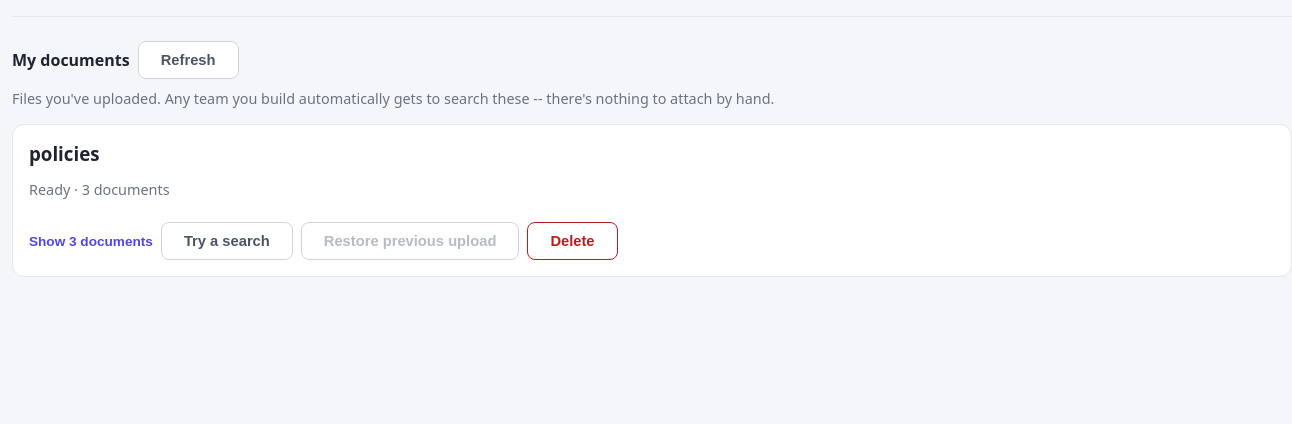
KnowledgeBasesPanel › lists the documents behind a toggle, with size and whether each could be read
Check: the text "handbook.pdf" is not shown
Click the button "Show 3 documents" at (91, 241), box [29,234,153,249]
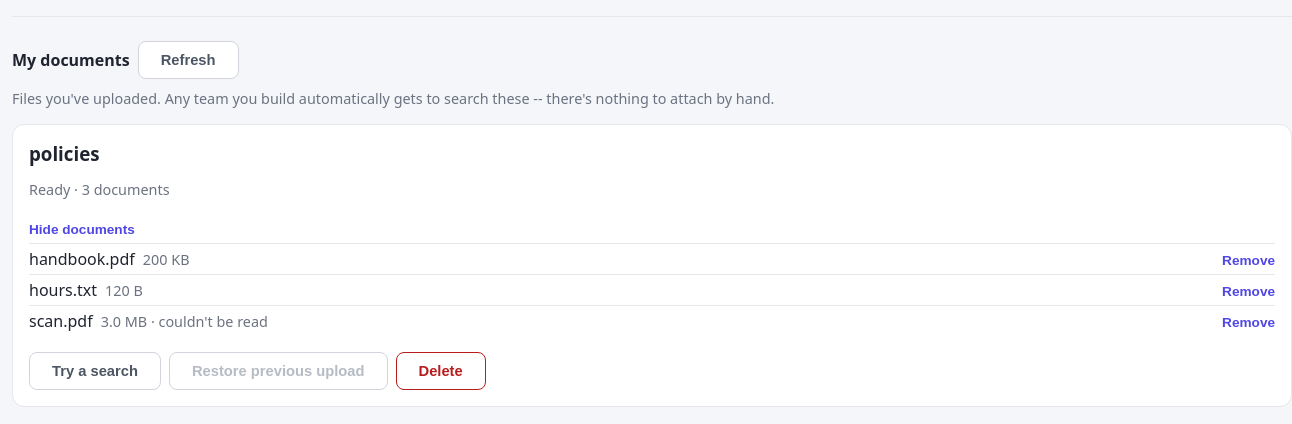
Check: the text "handbook.pdf" is shown, box [29,248,135,270]
Check: the text "200 KB" is shown, box [143,250,190,269]
Check: the text "3.0 MB · couldn't be read" is shown, box [101,312,268,331]
Click the button "Hide documents" at (82, 229), box [29,222,135,237]
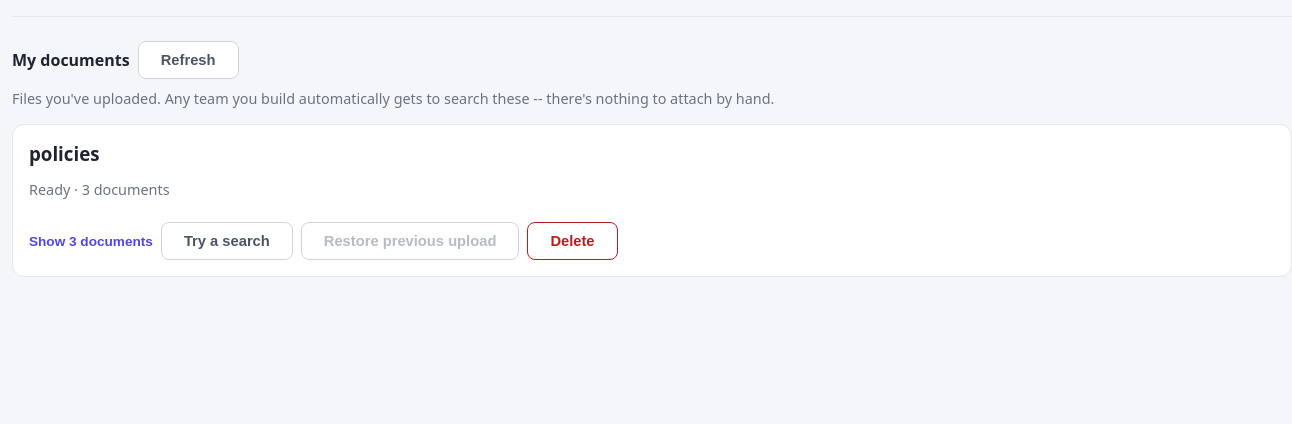
Check: the text "handbook.pdf" is gone
